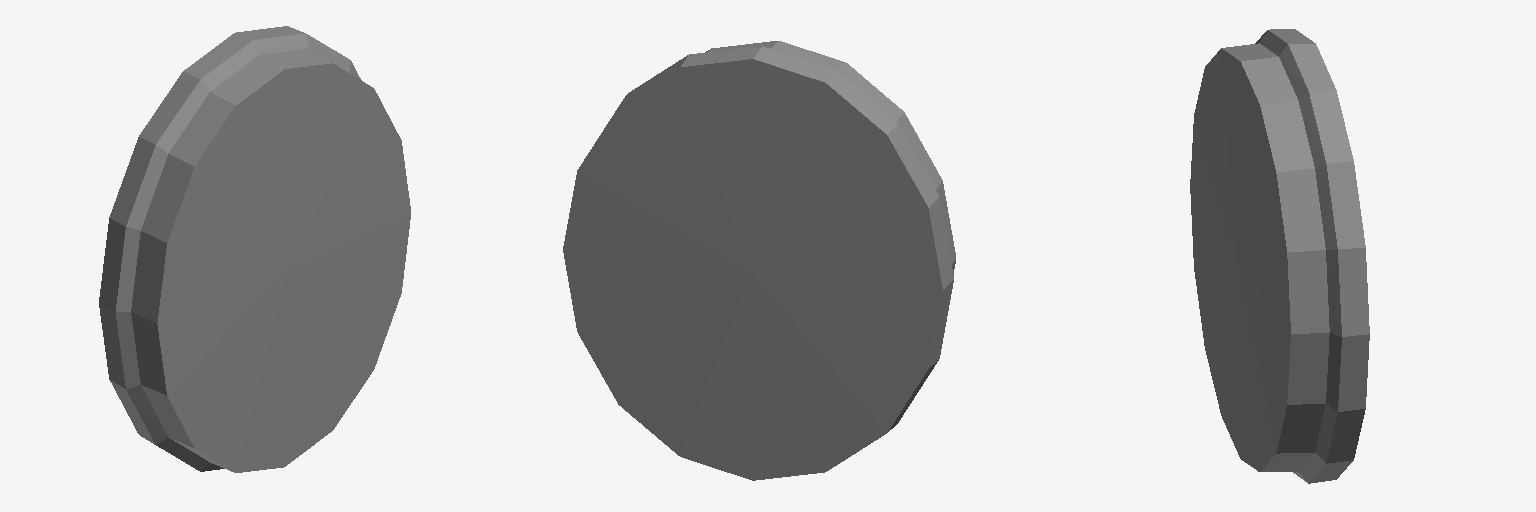
File: LlantaDer8.obj
The picture shows the model from 3 angles: view 1: azimuth 30°, elevation 25°; view 2: azimuth 150°, elevation 25°; view 3: azimuth 270°, elevation 25°; orthographic projection.
Visible parts, largest first — view 1: LlantaDer8; view 2: LlantaDer8; view 3: LlantaDer8.
Part boxes in pixels (left/top/right/bottom): LlantaDer8: left=99, top=26, right=410, bottom=472; LlantaDer8: left=563, top=41, right=955, bottom=480; LlantaDer8: left=1190, top=29, right=1369, bottom=483.
Bounding box in the file's own units: 0.2181 × 0.2666 × 0.1022.